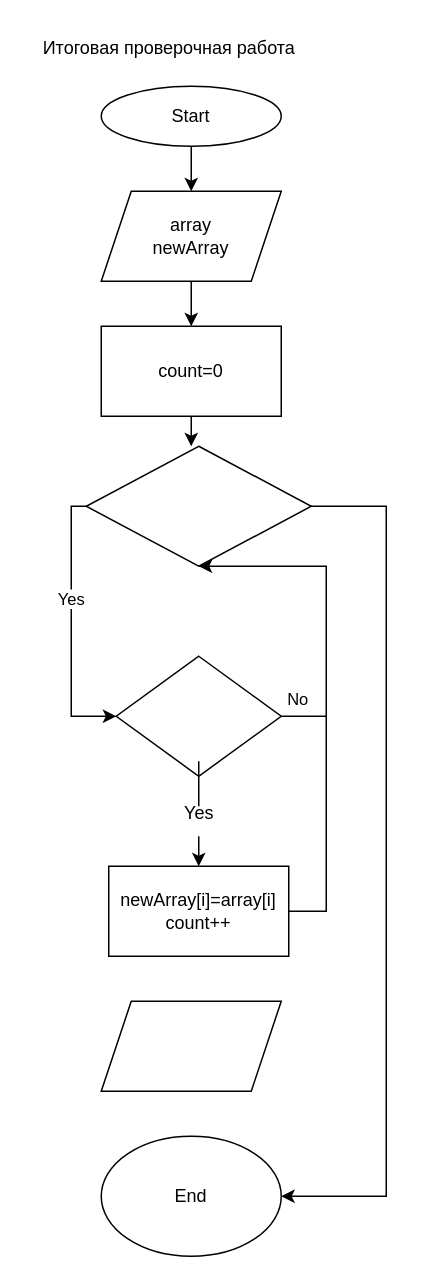
Image size: 425x1283. Some labels were removed from this diagram. Each missing label, with the box of its shape:
array.Length<=3: (115, 655, 281, 776)
i=0; i<array.Length; i++: (85, 445, 311, 566)
newArray: (100, 1000, 281, 1091)
